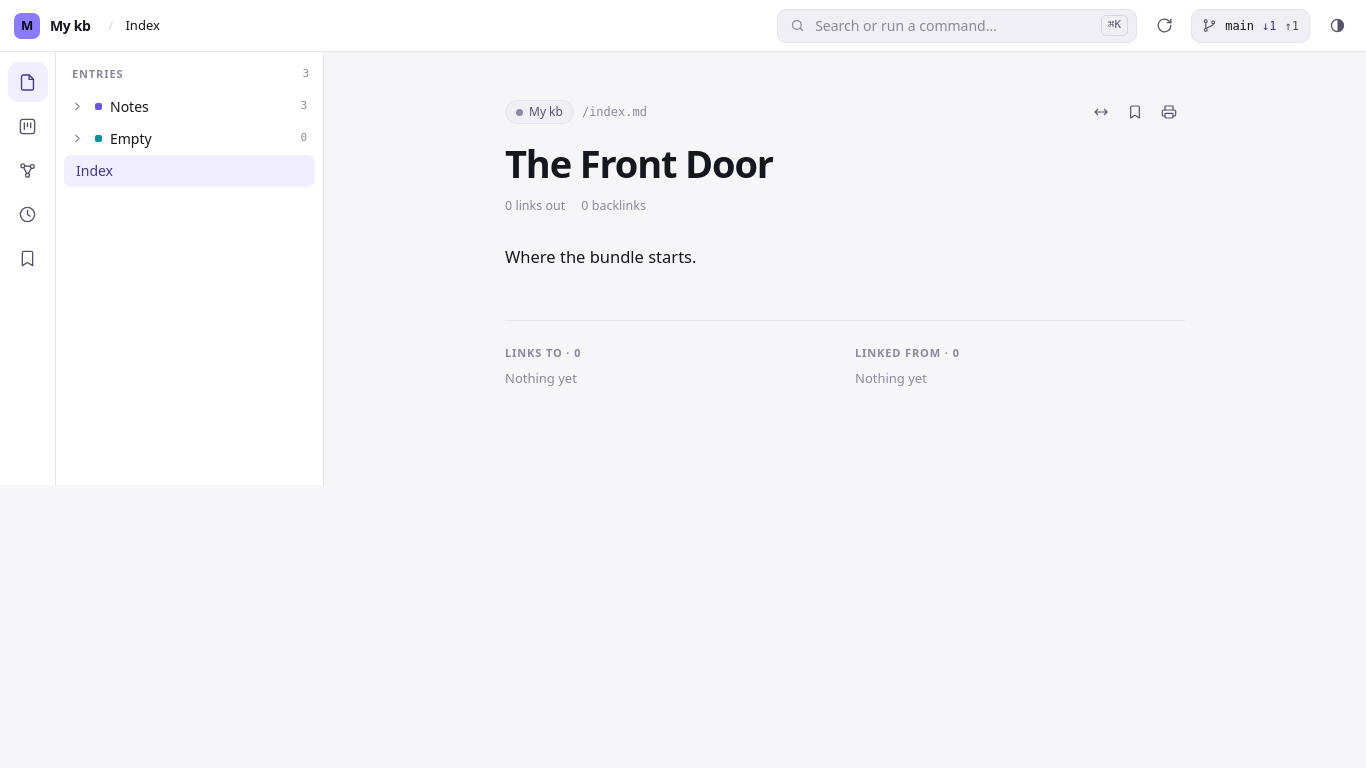
a rescue stays on screen, because the branch name is the point
The image size is (1366, 768).
Step 1. Click the button with aria-label "Source control" → (1251, 26), box [1191, 8, 1310, 42]
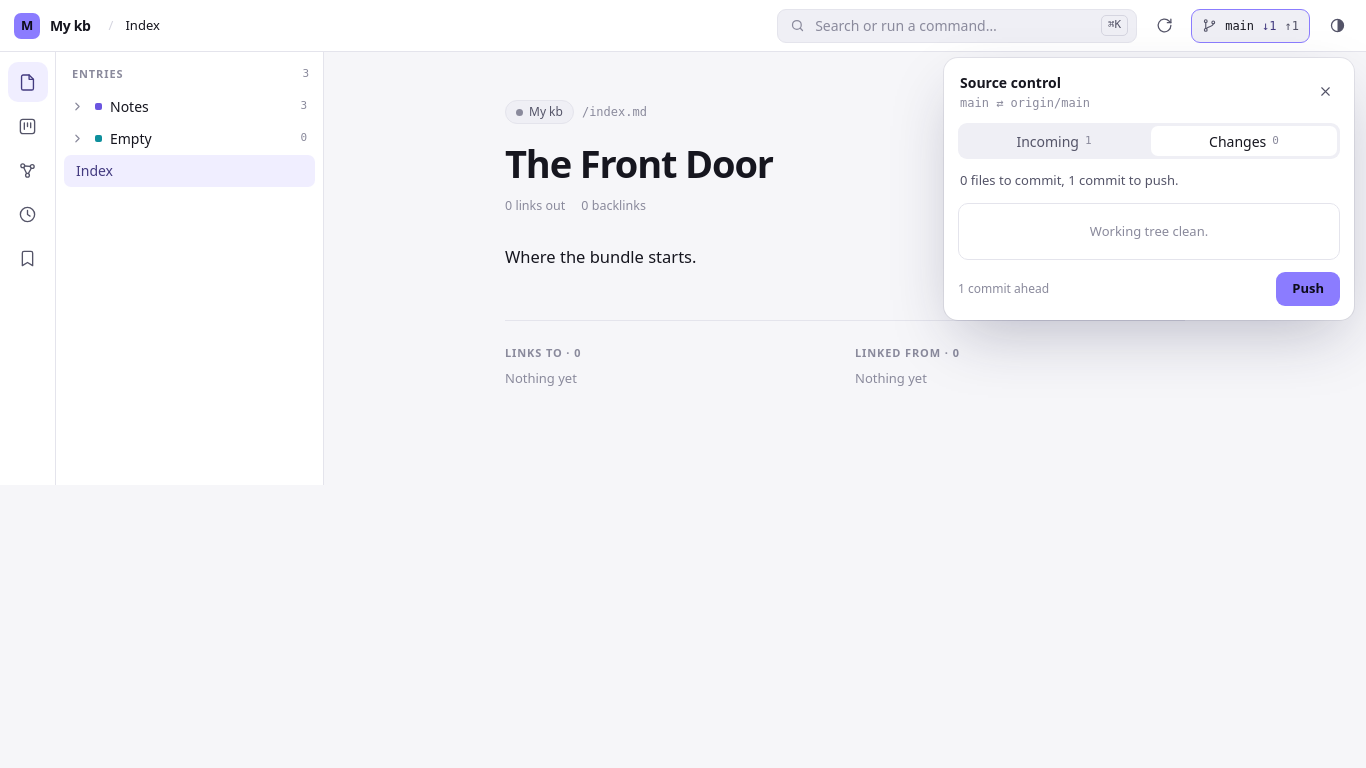
Step 2. Click the tab "Incoming 1" → (1054, 141), box [961, 126, 1147, 156]
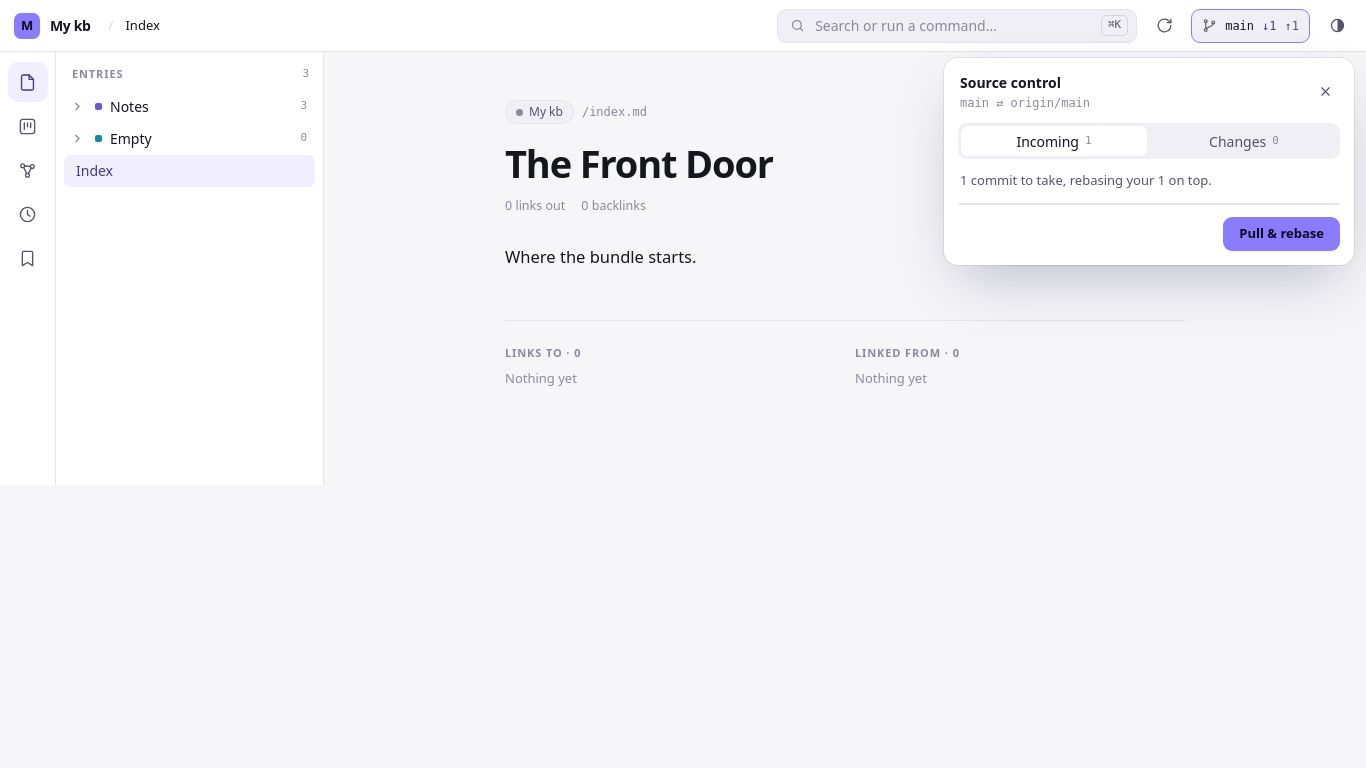
Step 3. Click the button "Pull & rebase" → (1282, 234), box [1223, 216, 1340, 250]
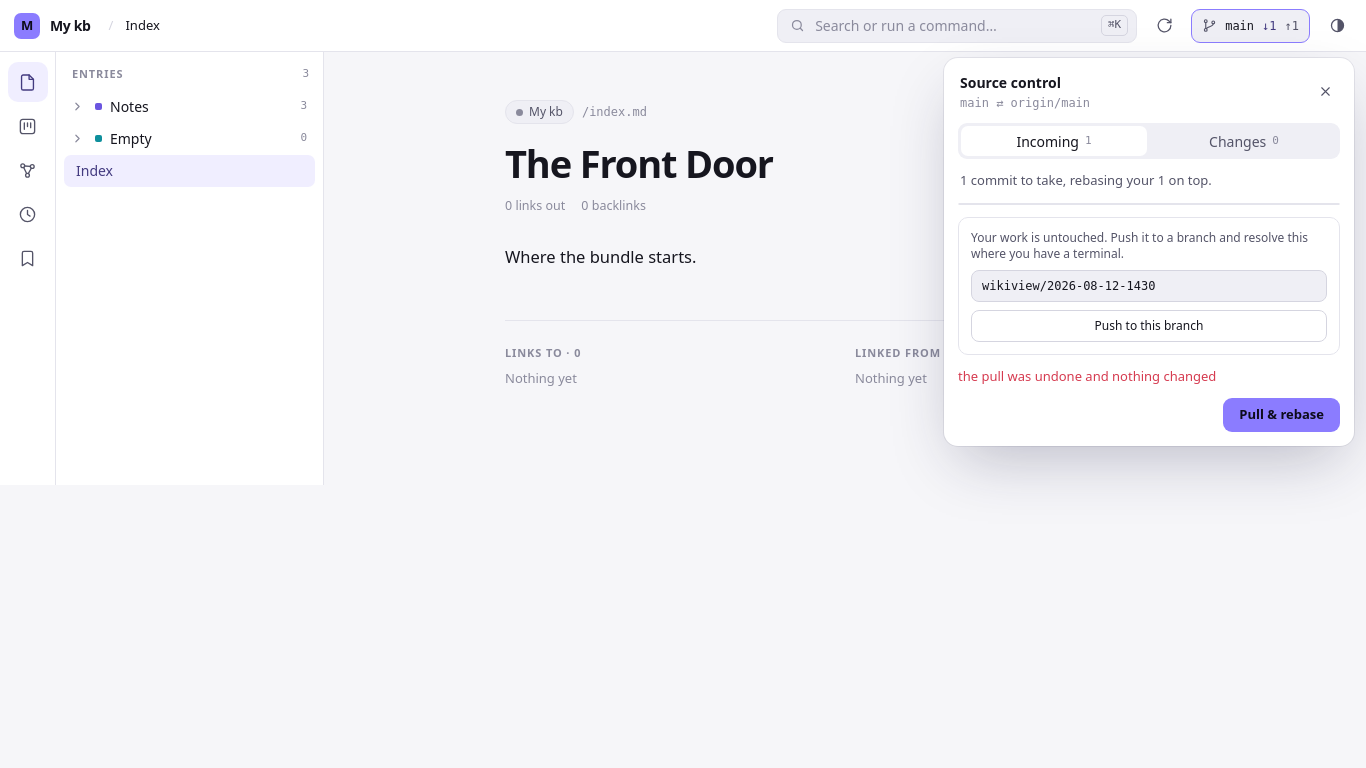
Step 4. Click the button "Push to this branch" → (1149, 326), box [971, 310, 1327, 342]
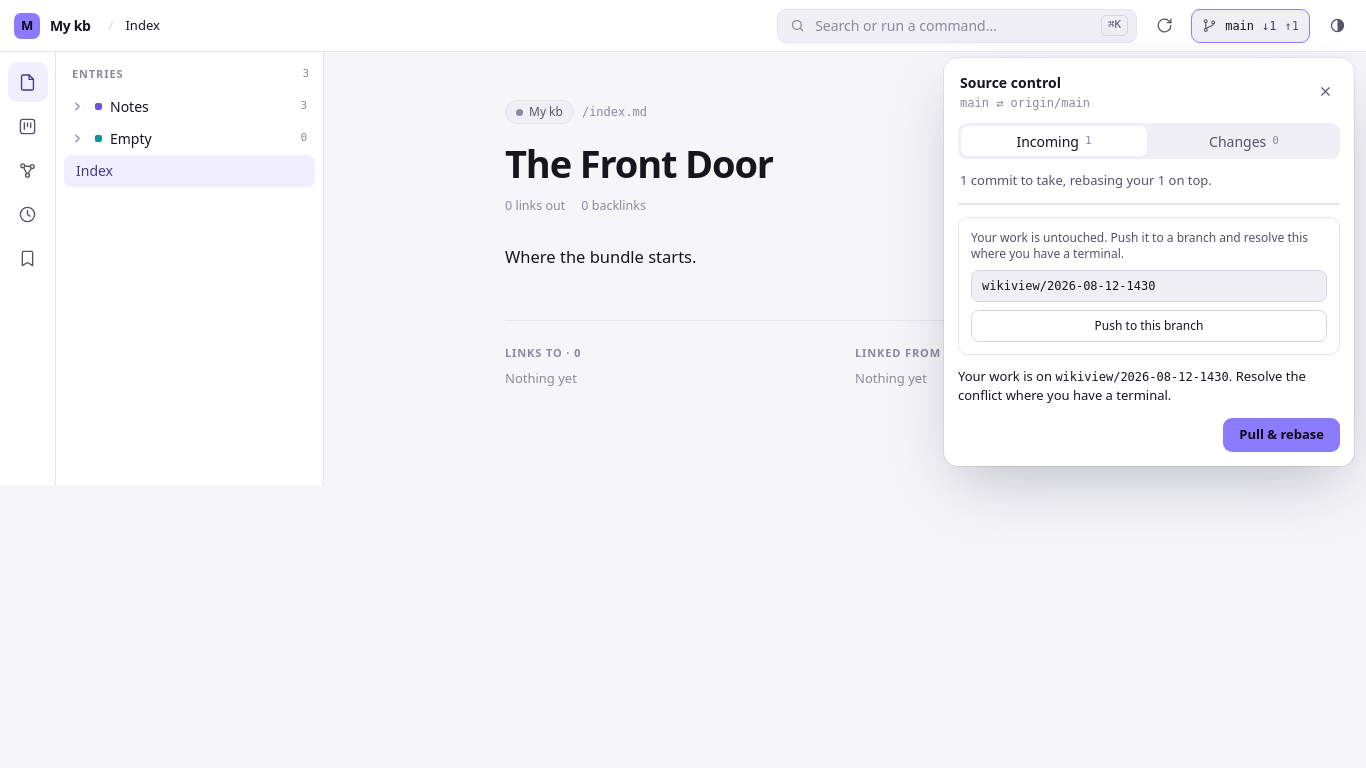
expect the dialog named "Source control" shows "wikiview/2026-08-12-1430": met, box [1055, 370, 1229, 384]
